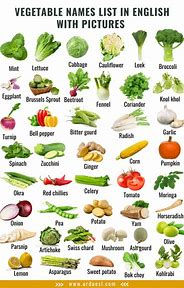inorganic: (66, 102, 104, 129), (32, 27, 62, 61), (156, 22, 182, 59), (96, 31, 126, 60), (115, 165, 147, 192), (118, 71, 151, 97), (74, 170, 112, 192), (3, 196, 36, 221), (112, 108, 146, 132), (27, 106, 62, 129), (116, 199, 151, 222), (41, 196, 77, 218), (2, 32, 28, 61), (39, 253, 82, 270), (80, 197, 113, 219), (65, 67, 90, 96), (154, 242, 183, 267), (64, 33, 91, 58), (157, 103, 184, 128), (76, 140, 108, 161), (154, 72, 184, 94), (154, 168, 184, 189), (69, 223, 95, 247), (42, 169, 72, 188), (157, 138, 184, 159), (5, 170, 33, 190), (5, 250, 36, 268), (2, 105, 23, 131), (131, 25, 147, 59), (94, 71, 113, 99), (120, 250, 145, 271), (29, 144, 69, 157), (157, 196, 184, 215), (155, 219, 182, 238), (0, 229, 38, 242), (114, 141, 152, 154), (2, 140, 31, 157), (39, 224, 60, 247), (100, 223, 123, 241), (129, 225, 150, 244), (85, 255, 118, 267), (0, 74, 23, 91), (27, 73, 53, 85)
